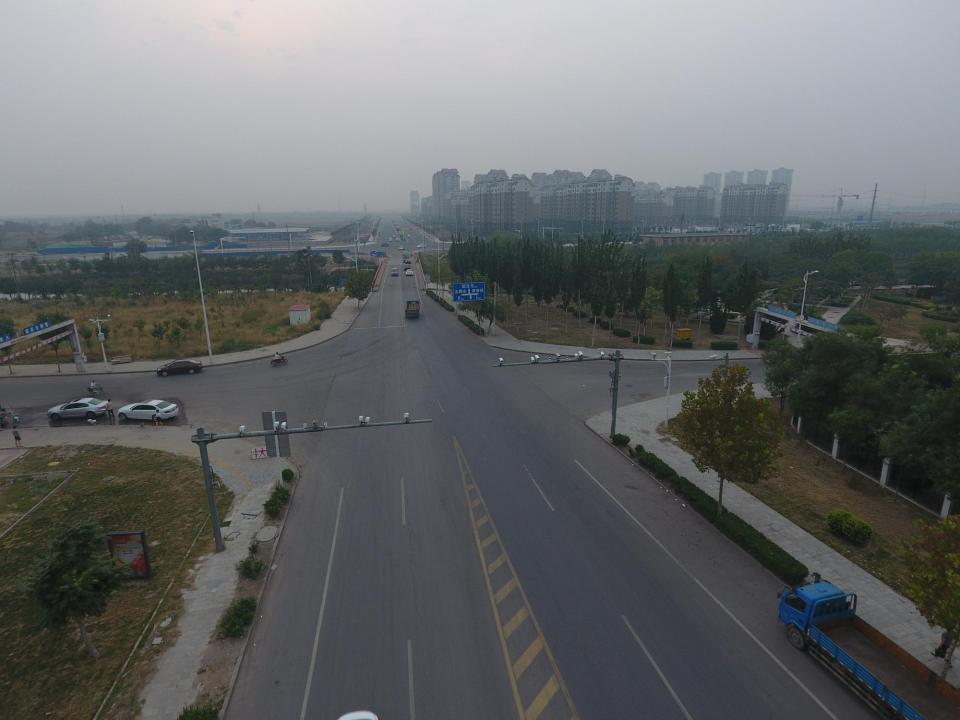car: (117, 397, 180, 422), (46, 398, 110, 419), (155, 359, 200, 376)
truck: (780, 580, 960, 720), (407, 296, 419, 318)
